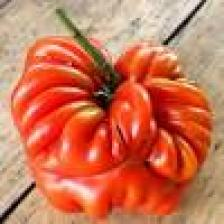Damaged potato: (12, 12, 211, 217)
